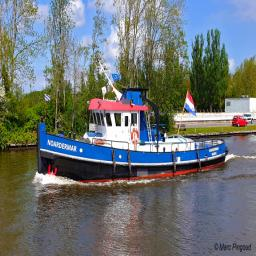tugboat: (36, 84, 231, 192)
